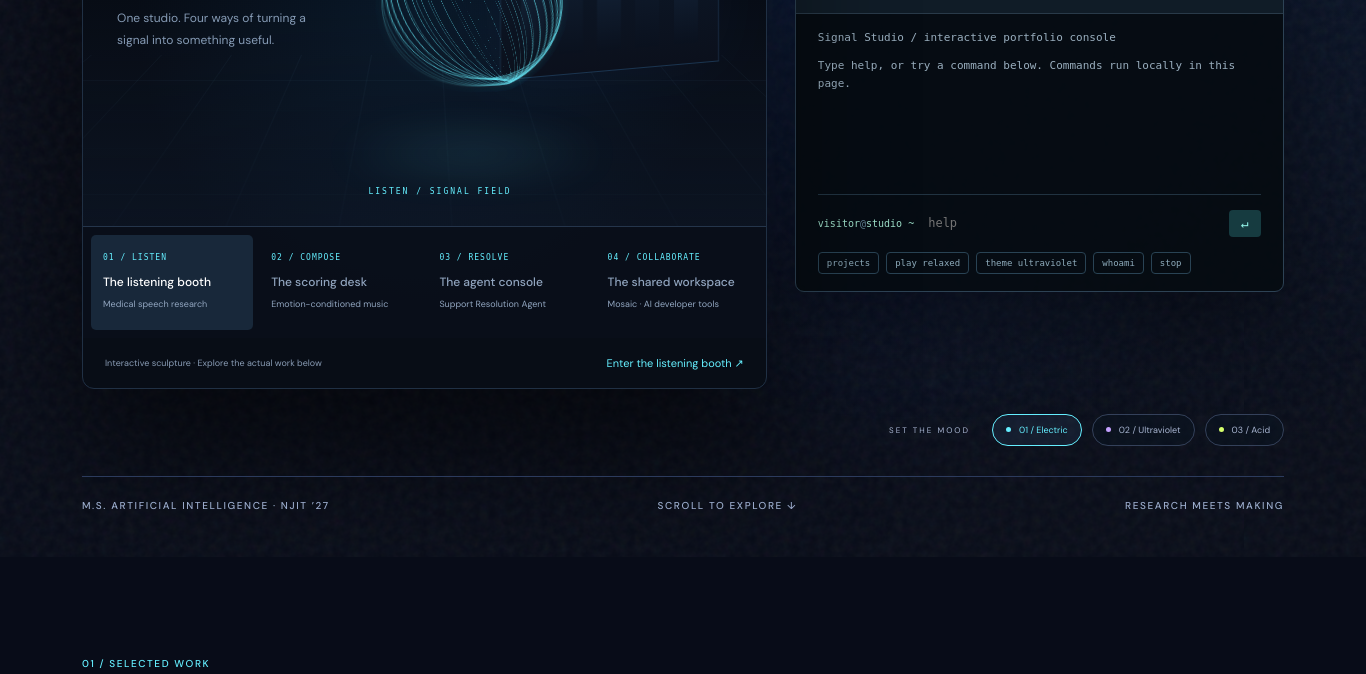
Test case: color grading switches the visual theme without interrupting project controls
Later steps or results of the test are not shown.
(page scrolled)
Click the button "02 / Ultraviolet": [1143, 430] box [1092,414,1195,446]
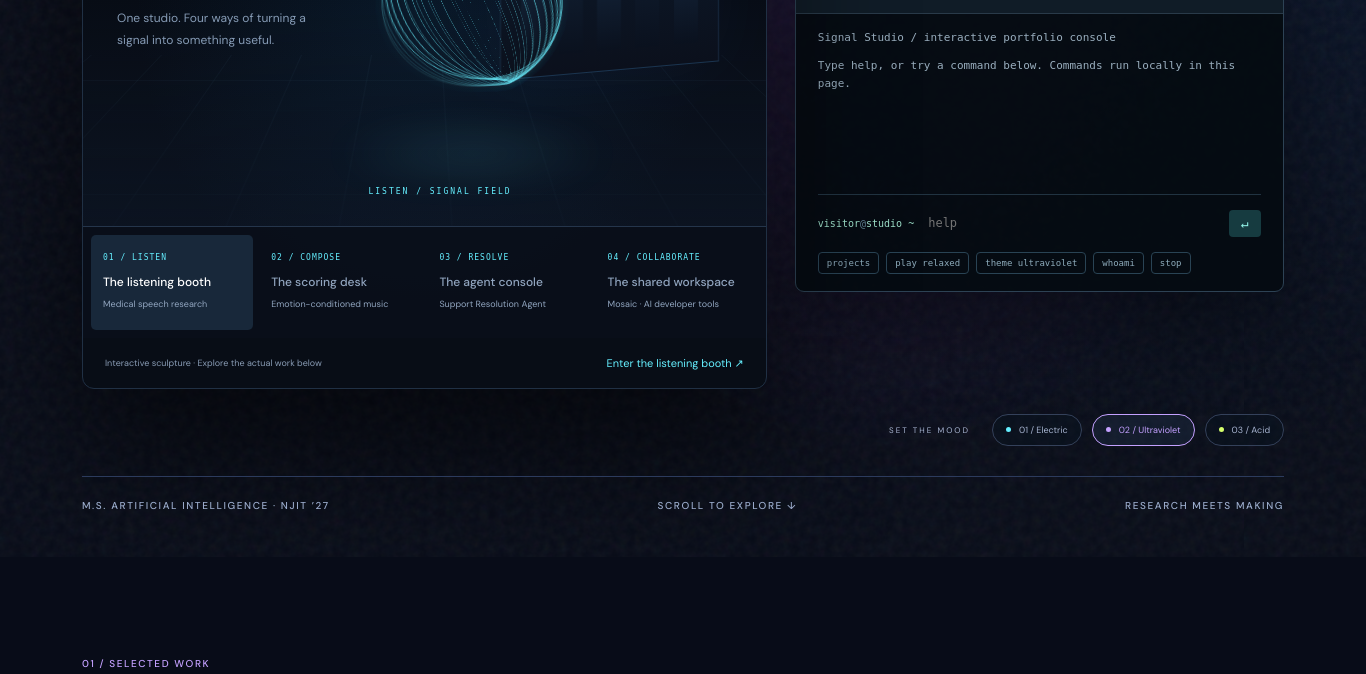
Expected: the button "02 / Ultraviolet" is pressed, [1092,414,1195,446]
Click the button "03 / Acid": [1244, 430] box [1205,414,1284,446]
(page scrolled)
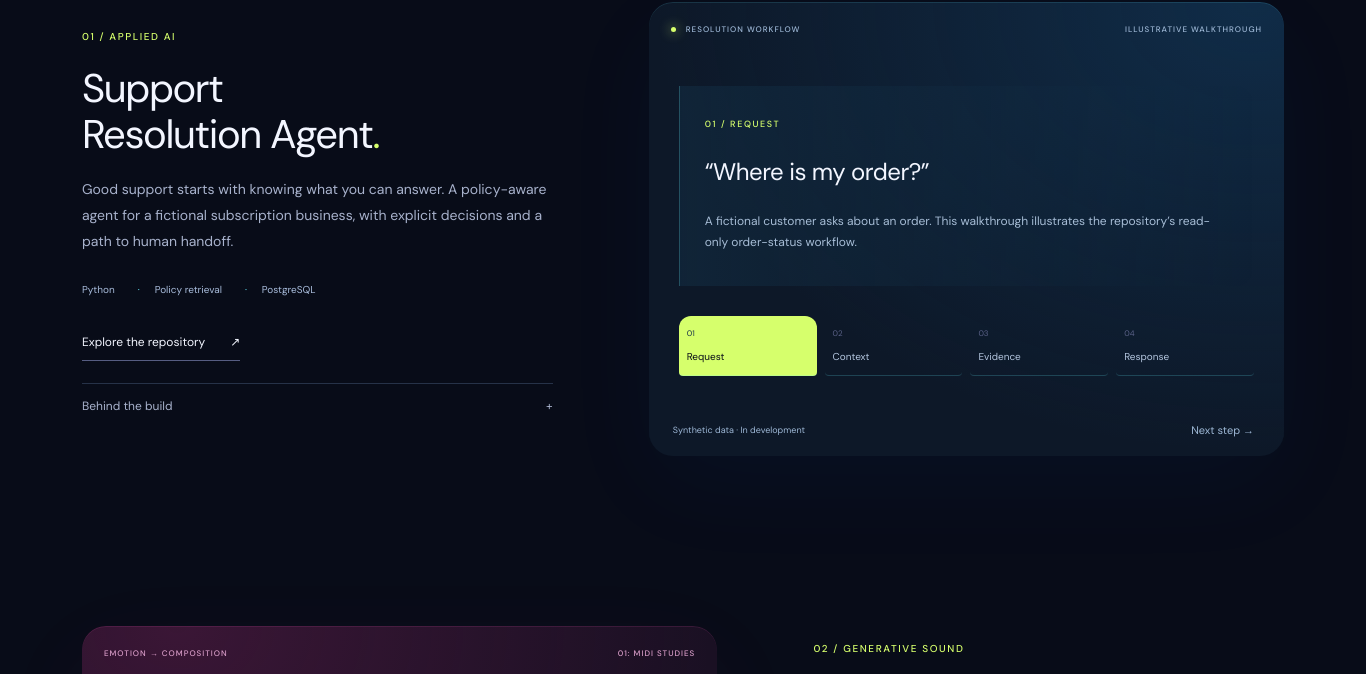
Click the button "Next step →": [1223, 430] box [1185,422,1260,438]
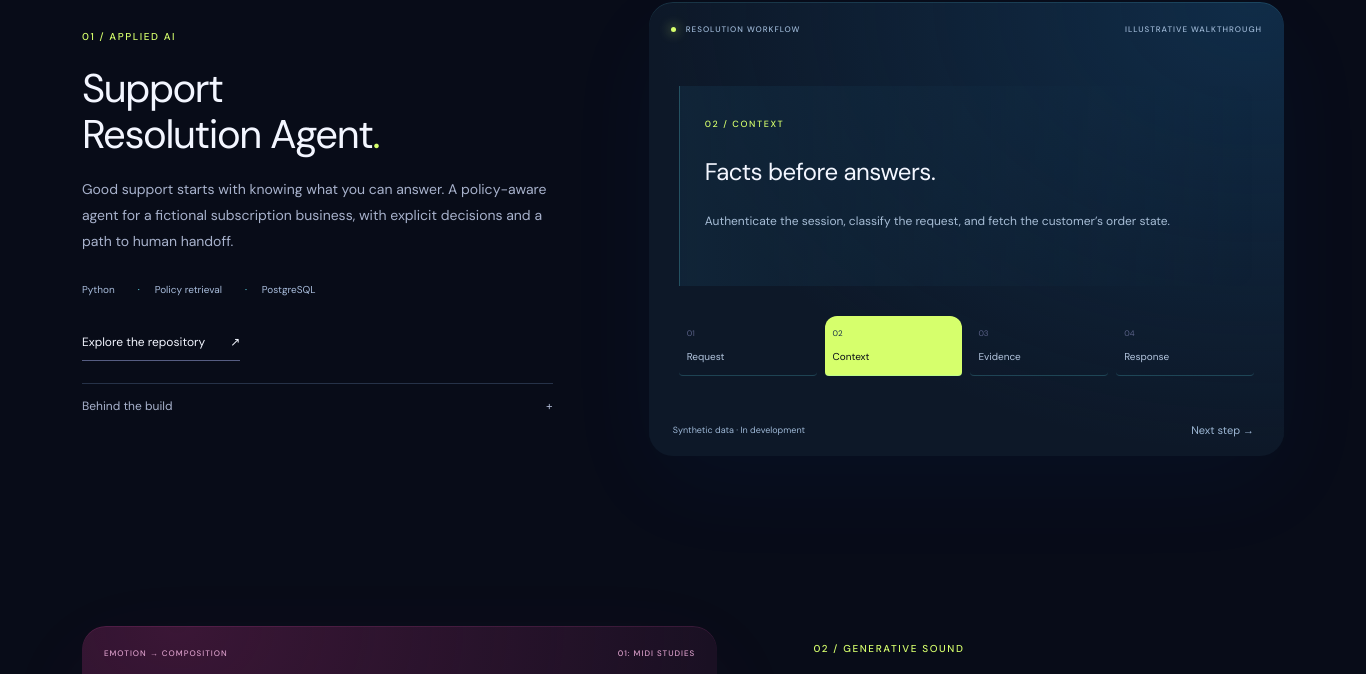
Expected: the heading "Facts before answers." is shown, [705,156,935,187]
